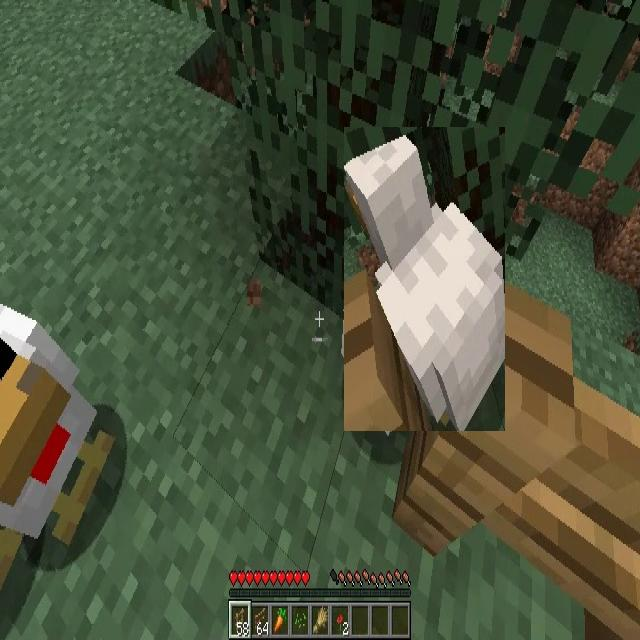duck: (344, 127, 505, 431), (0, 300, 111, 598)
